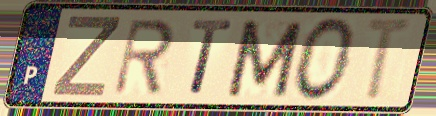M: (223, 17, 307, 100)
O: (291, 14, 360, 104)
R: (110, 16, 177, 98)
T: (362, 15, 418, 105), (187, 17, 237, 98)
Z: (48, 13, 124, 99)
